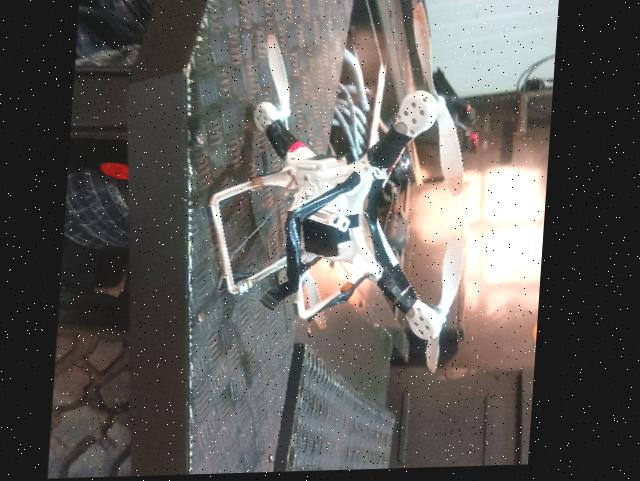drone: (194, 21, 484, 389)
